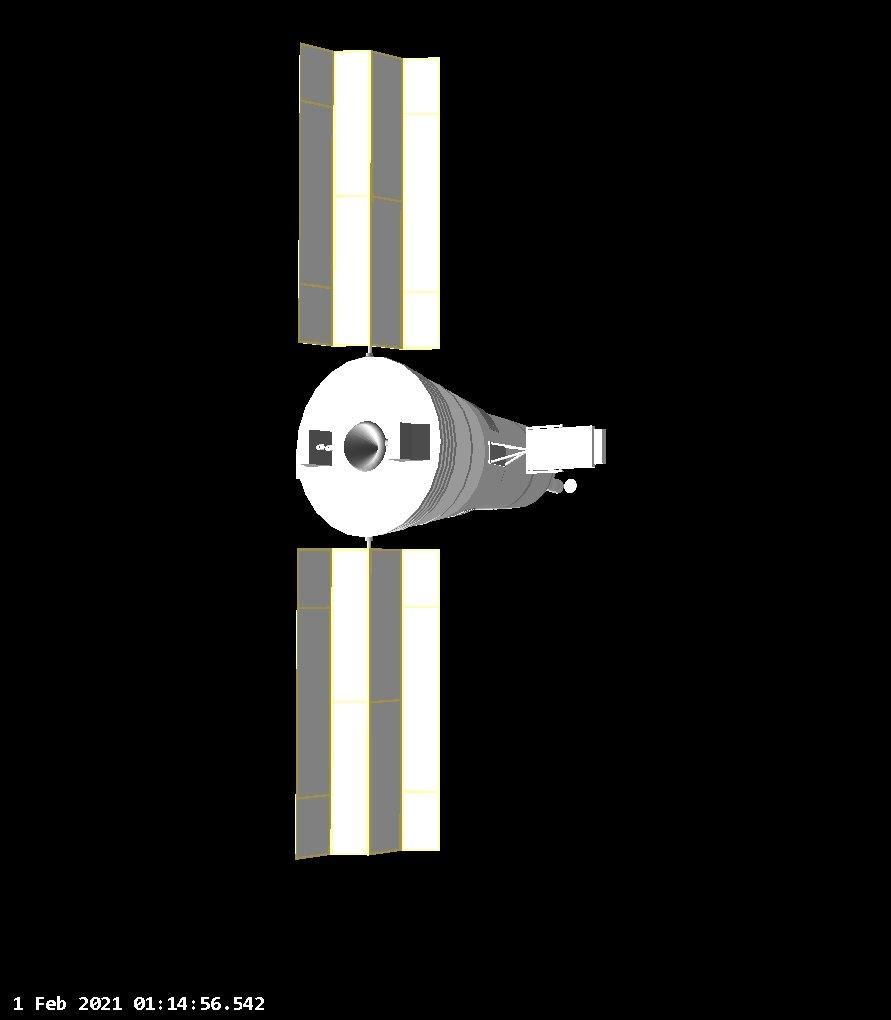antenna: (485, 420, 610, 477), (564, 478, 577, 495)
body: (295, 355, 557, 538)
solar: (289, 542, 446, 865), (296, 38, 444, 352)
thruster: (315, 443, 326, 452), (325, 444, 333, 452)
